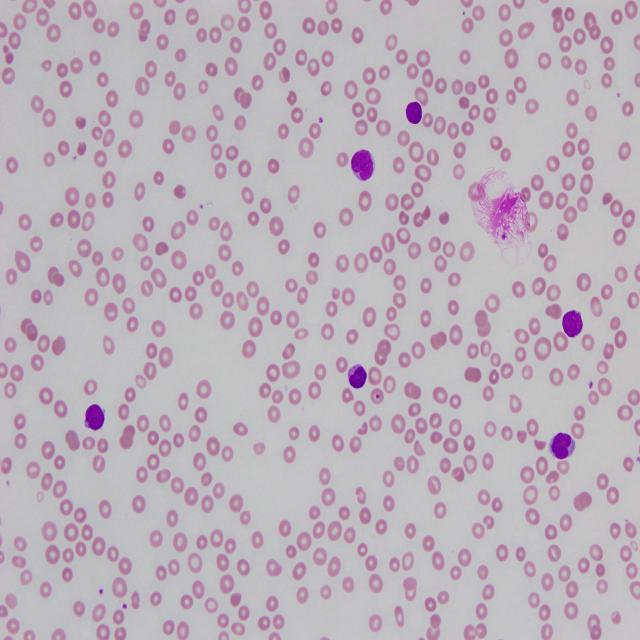cell: (351, 150, 375, 180), (550, 433, 575, 460), (562, 310, 582, 337), (85, 403, 105, 430), (348, 365, 368, 388), (406, 102, 422, 125)
